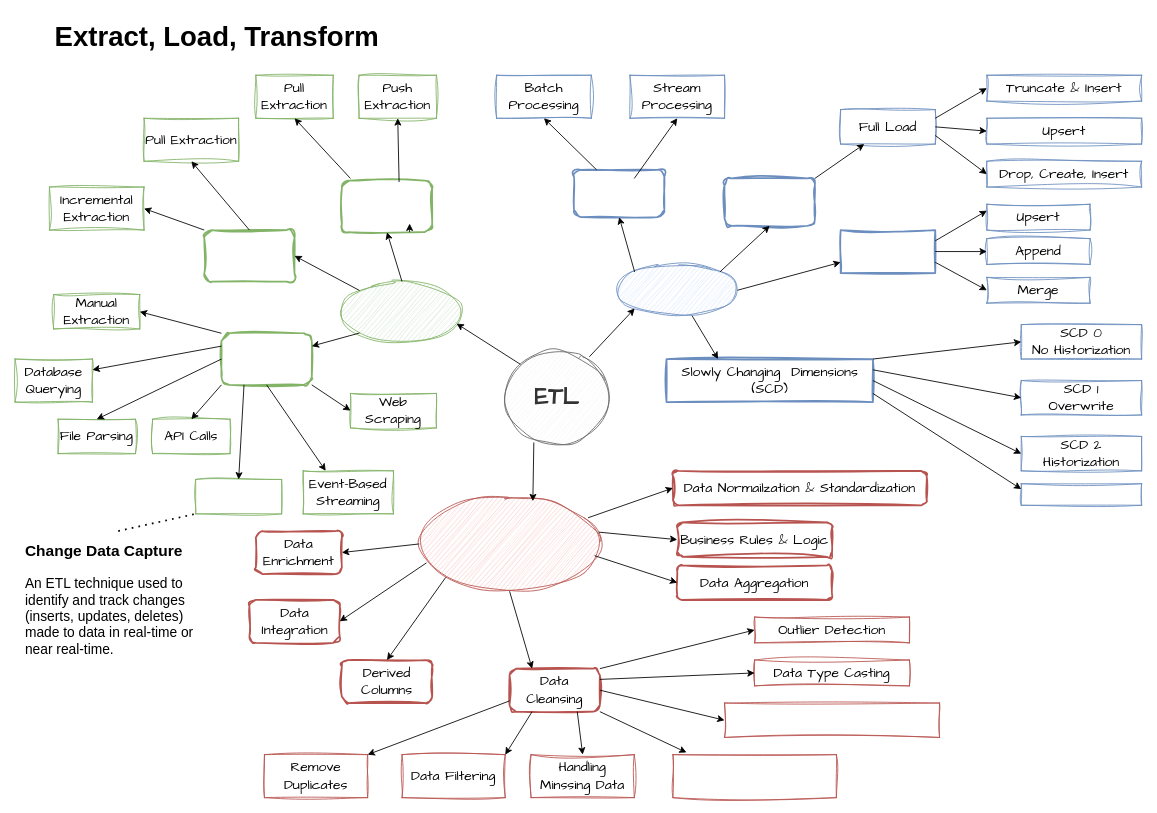
The diagram is 1157 pixels wide and 813 high, and some of its shapes have lost their labels. The shapes that lost their labels are listed below. From the top down, each one's box as (x1, y1, x2, y2) in pixels, then its label:
(341, 179, 433, 233): Extraction Methods
(573, 169, 665, 218): Processing Types
(723, 177, 815, 226): Load Methods
(203, 229, 295, 282): Extraction Types
(839, 229, 936, 273): Incremental Load
(616, 264, 737, 316): L oad
(341, 281, 462, 342): Ex traction
(220, 332, 312, 385): Extraction Techniques
(195, 479, 282, 514): CDC
(1020, 483, 1142, 505): SCD ...
(418, 496, 600, 591): T ransformation
(724, 702, 940, 737): Handling Unwanted Spaces
(672, 754, 836, 798): Handling Invalid Values
